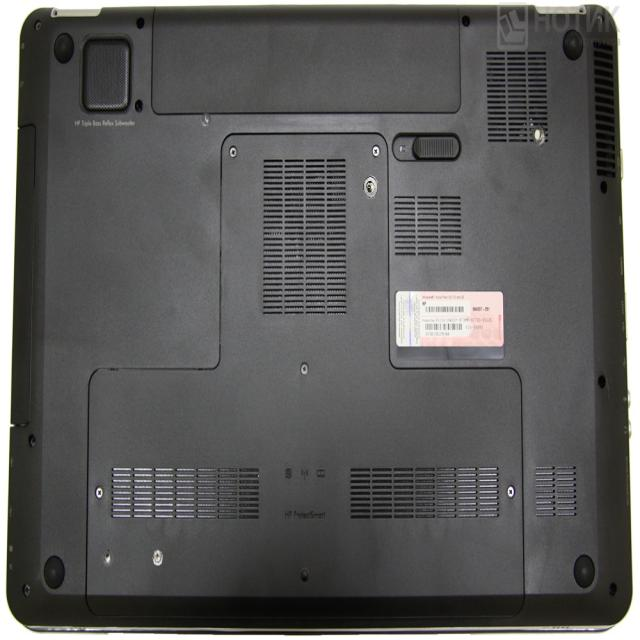lock: (152, 550, 163, 565)
missing_screw: (363, 175, 378, 199), (531, 124, 545, 146), (101, 548, 113, 565), (200, 110, 211, 126)
